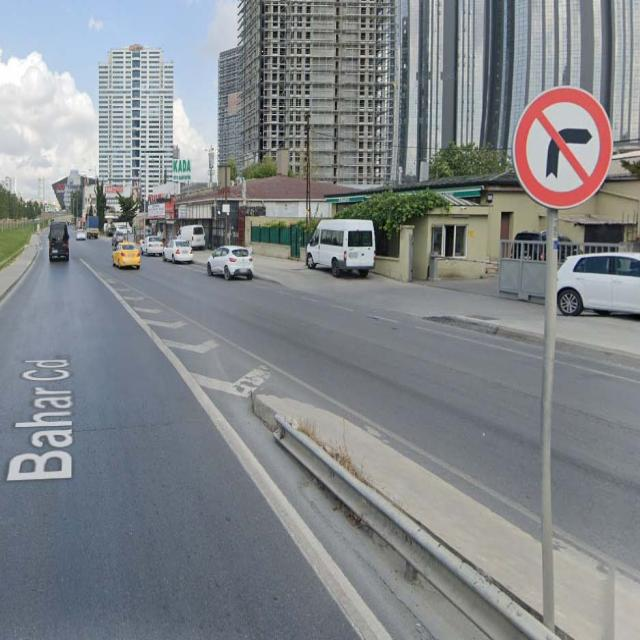sagadonulmez: (513, 87, 613, 208)
